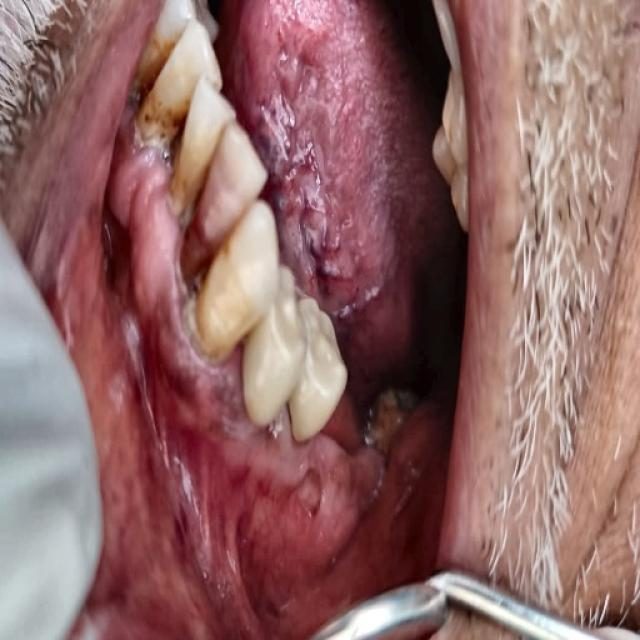leukoplakia-detection: (249, 39, 384, 325)
processing_area: (236, 3, 411, 357)
